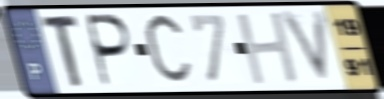7: (187, 13, 229, 87)
C: (141, 10, 196, 90)
H: (233, 9, 303, 88)
P: (85, 12, 135, 89)
T: (40, 12, 85, 90)
V: (277, 7, 335, 89)
